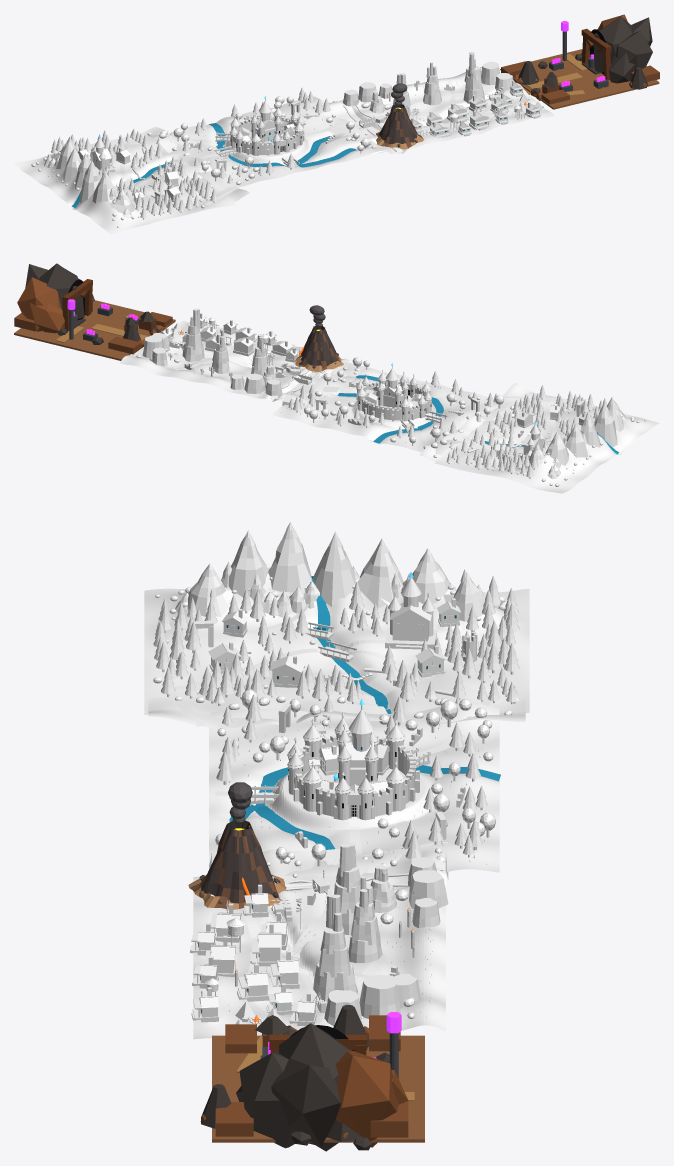
Rendered from wizard-royale-four-region-map.glb.
3 renders of one model, top to bottom at view 1: azimuth 30°, elevation 25°; view 2: azimuth 150°, elevation 25°; view 3: azimuth 270°, elevation 25°, orthographic. The views are drawn at different scales.
Visible parts, largest first — view 1: Castle Valley Terrain, Detailed Alpine Mountain Terrain, Detailed Ember Dunes Terrain, Deepstone quarry floor, Natural castle valley to mountain foothills, Ashen Crown Volcano, Grand Mine mountain mass 1, Wide natural grass to desert transition, Grand Mine mountain mass 2, Main blue river, Grand Mine mountain mass 5, High Crown Peak (+5 smaller); view 2: Castle Valley Terrain, Detailed Alpine Mountain Terrain, Detailed Ember Dunes Terrain, Deepstone quarry floor, Natural castle valley to mountain foothills, Ashen Crown Volcano, Grand Mine mountain mass 3, Grand Mine mountain mass 1, Wide natural grass to desert transition, Grand Mine mountain mass 6, High Crown Peak, Twin Moon Peak (+5 smaller); view 3: Castle Valley Terrain, Detailed Alpine Mountain Terrain, Detailed Ember Dunes Terrain, Deepstone quarry floor, Natural castle valley to mountain foothills, Grand Mine mountain mass 3, Grand Mine mountain mass 4, Ashen Crown Volcano, Grand Mine mountain mass 2, Grand Mine mountain mass 1, Wide natural grass to desert transition, High Crown Peak (+15 smaller).
Part boxes in pixels (<box>): Castle Valley Terrain: <box>148,96,386,190</box>; Detailed Alpine Mountain Terrain: <box>14,133,235,234</box>; Detailed Ember Dunes Terrain: <box>332,67,554,154</box>; Deepstone quarry floor: <box>500,49,659,109</box>; Natural castle valley to mountain foothills: <box>124,126,249,205</box>; Ashen Crown Volcano: <box>378,104,417,144</box>; Grand Mine mountain mass 1: <box>594,16,632,73</box>; Wide natural grass to desert transition: <box>302,102,391,156</box>; Grand Mine mountain mass 2: <box>616,31,652,70</box>; Main blue river: <box>209,123,331,166</box>; Grand Mine mountain mass 5: <box>609,53,634,83</box>; High Crown Peak: <box>79,160,100,203</box>; Castle Valley Terrain: <box>272,366,514,455</box>; Detailed Alpine Mountain Terrain: <box>435,395,659,493</box>; Detailed Ember Dunes Terrain: <box>119,320,349,401</box>; Deepstone quarry floor: <box>14,300,175,360</box>; Natural castle valley to mountain foothills: <box>420,383,540,466</box>; Ashen Crown Volcano: <box>301,326,339,367</box>; Grand Mine mountain mass 3: <box>17,277,61,331</box>; Grand Mine mountain mass 1: <box>39,263,84,320</box>; Wide natural grass to desert transition: <box>282,361,366,408</box>; Grand Mine mountain mass 6: <box>30,303,64,333</box>; High Crown Peak: <box>594,402,617,447</box>; Twin Moon Peak: <box>565,423,587,457</box>; Castle Valley Terrain: <box>209,702,499,875</box>; Detailed Alpine Mountain Terrain: <box>144,573,529,714</box>; Detailed Ember Dunes Terrain: <box>193,867,445,1039</box>; Deepstone quarry floor: <box>212,1035,424,1142</box>; Natural castle valley to mountain foothills: <box>148,694,525,728</box>; Grand Mine mountain mass 3: <box>335,1050,398,1147</box>; Grand Mine mountain mass 4: <box>271,1058,340,1146</box>; Ashen Crown Volcano: <box>200,821,276,903</box>; Grand Mine mountain mass 2: <box>239,1051,294,1148</box>; Grand Mine mountain mass 1: <box>279,1023,351,1151</box>; Wide natural grass to desert transition: <box>209,842,448,881</box>; High Crown Peak: <box>268,522,312,592</box>.
Size of the model in its own units: 85.1 by 9.94 by 24.4.
